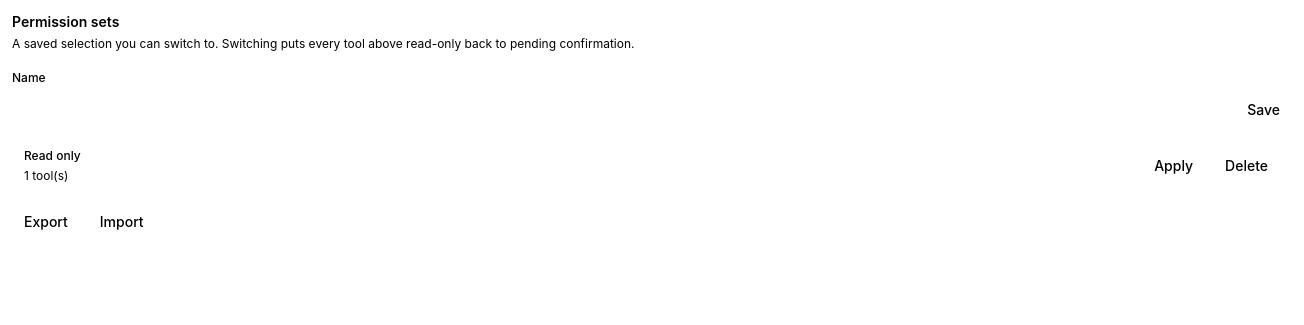
a switch that dropped ids this build no longer knows names them
Click the button "Apply".
click(1174, 166)  # box [1142,148,1205,184]
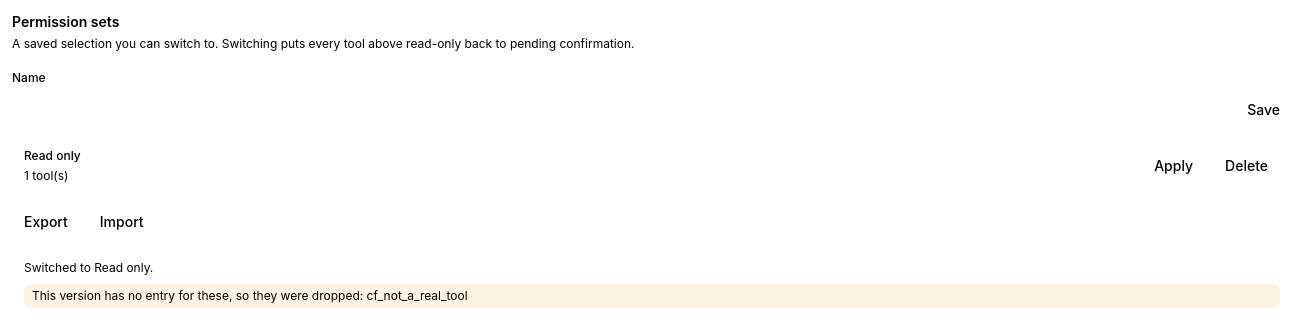
Expected: the 2nd list item is shown, [24,284,1280,308]
Expected: the 2nd list item shows "cf_not_a_real_tool", [32,288,468,303]
